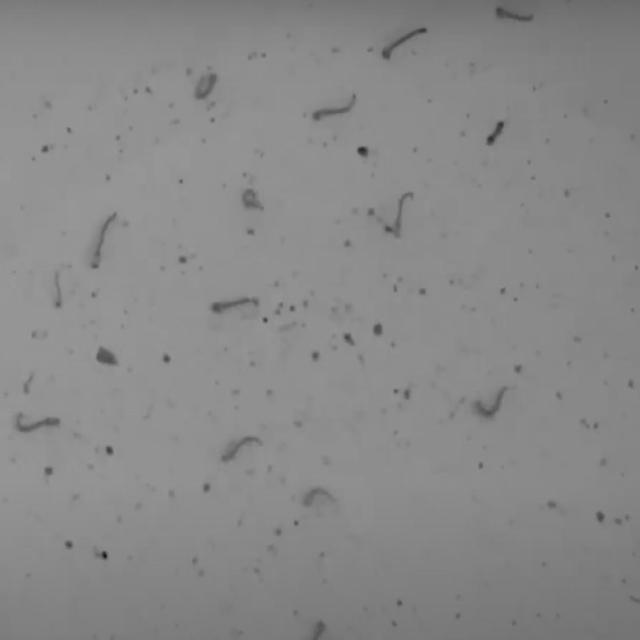larvas: (92, 212, 117, 268), (382, 28, 426, 58), (391, 192, 416, 236), (225, 434, 260, 464), (313, 96, 356, 120), (212, 296, 259, 314), (475, 389, 508, 414), (18, 412, 58, 429), (193, 75, 217, 99), (302, 490, 334, 507), (313, 613, 332, 640), (495, 9, 534, 22), (52, 271, 64, 309), (246, 188, 262, 210)
